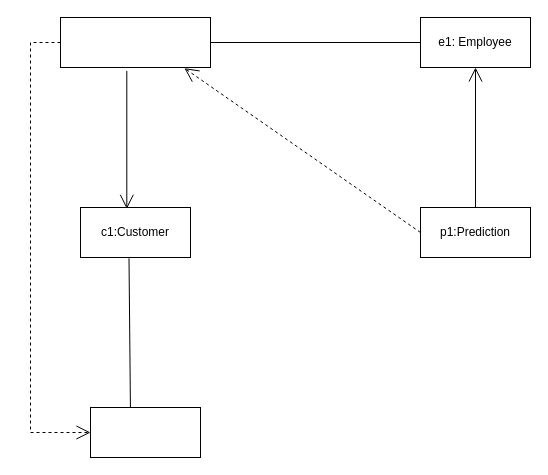
The diagram is 548 pixels wide and 475 high, and some of its shapes have lost their labels. Here are the shapes that lost their labels. From the top down, the box of each, then its label:
(60, 16, 210, 68): b1:Booking
(90, 406, 200, 458): r1: Room
